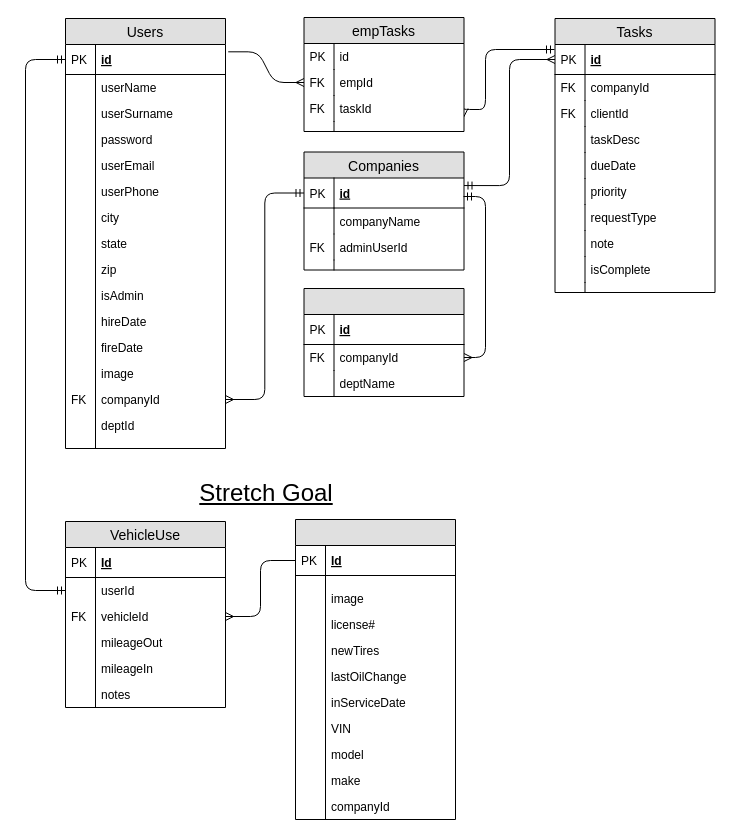
The diagram is 733 pixels wide and 840 high, and some of its shapes have lost their labels. The box of each missing label's shape, as (x1, y1, x2, y2) in pixels:
Departments: (303, 288, 464, 396)
Vehicles: (294, 518, 456, 820)
